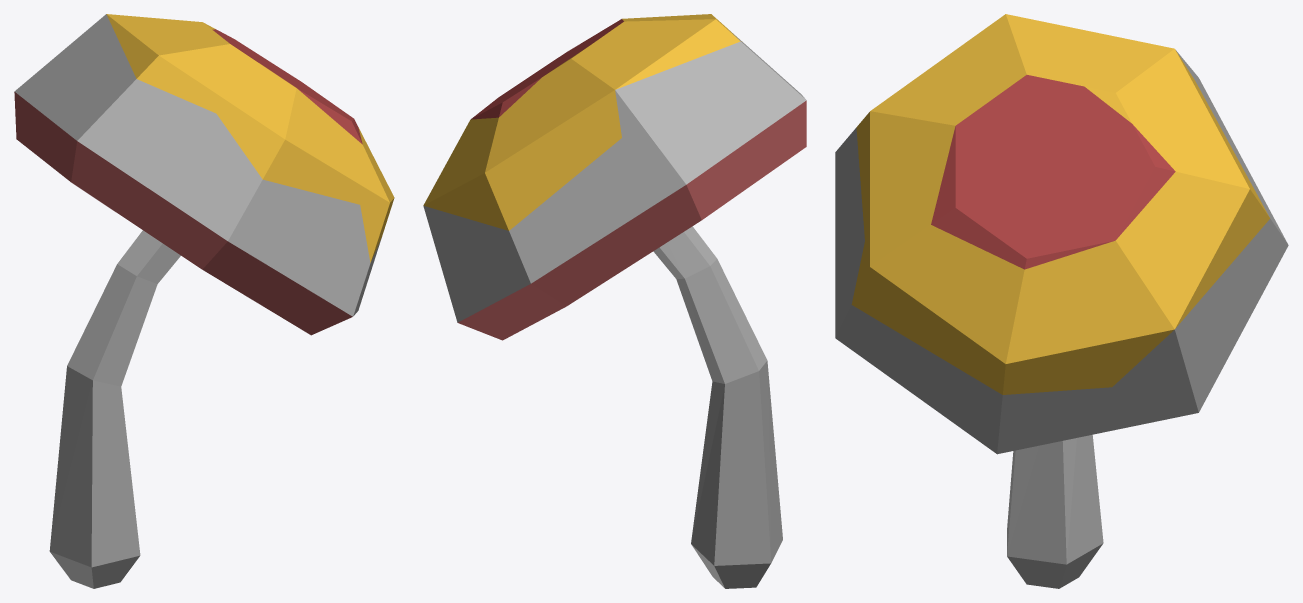
File: Mushroom_02.FBX
3 renders of one model, left to right at view 1: azimuth 30°, elevation 25°; view 2: azimuth 150°, elevation 25°; view 3: azimuth 270°, elevation 25°, orthographic. The views are drawn at different scales.
Parts seen in each view (by area): view 1: Mushroom_02; view 2: Mushroom_02; view 3: Mushroom_02.
Part boxes in pixels (bbox=[...]): Mushroom_02: bbox=[14, 14, 394, 588]; Mushroom_02: bbox=[423, 14, 806, 588]; Mushroom_02: bbox=[835, 14, 1288, 588].
Size of the model in its own units: 0.748 by 1.16 by 0.8139.
